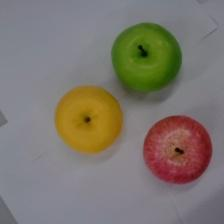green: (111, 23, 182, 91)
red: (143, 115, 212, 184)
yellow: (54, 85, 123, 155)
